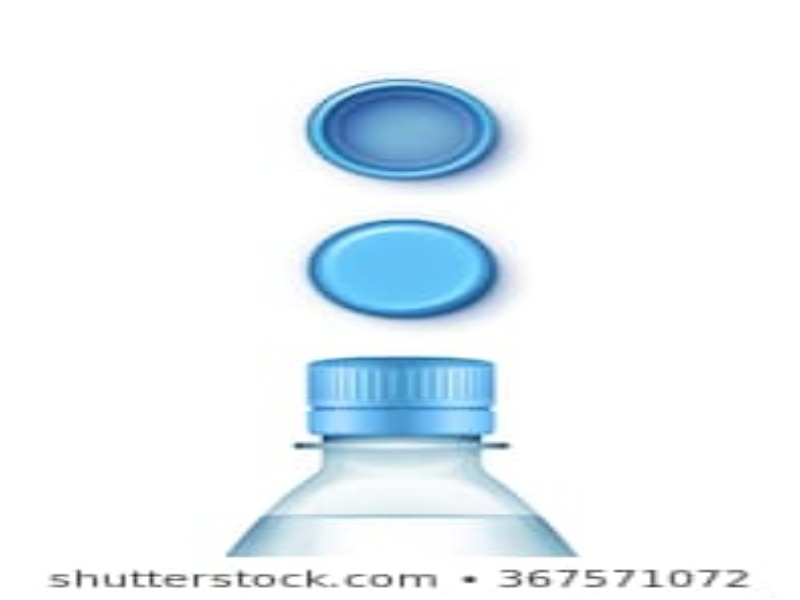bottle-cap: (302, 214, 501, 320), (305, 78, 500, 181), (292, 348, 504, 435)
plastic-bottle: (221, 354, 596, 558)
